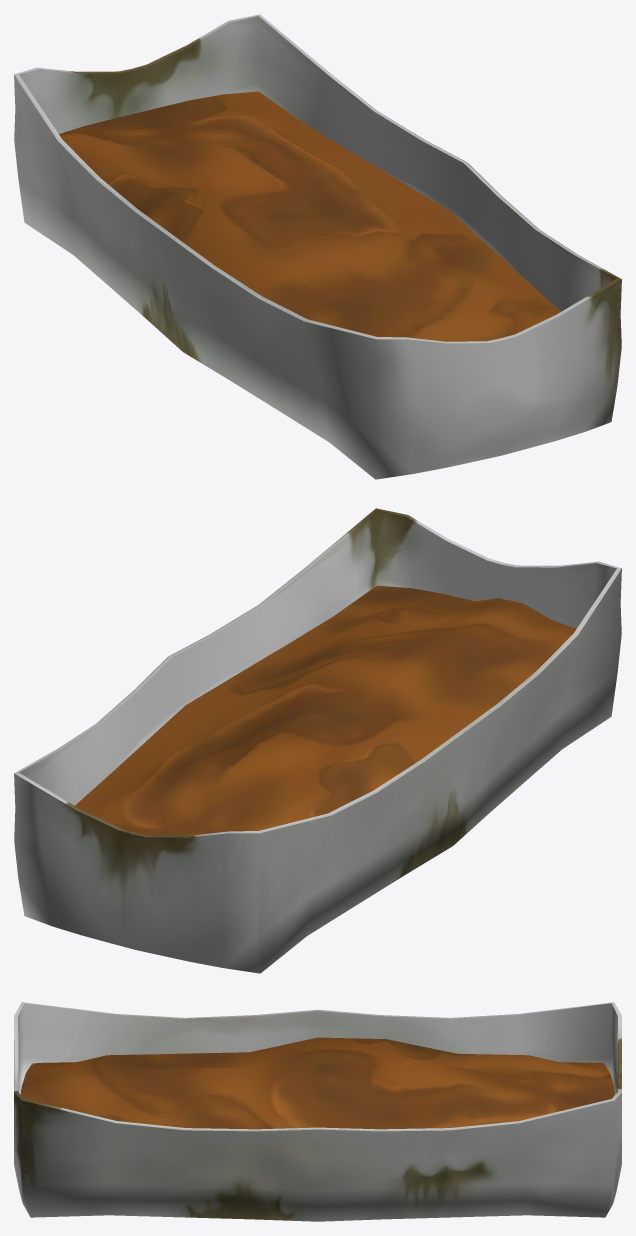
Rendered from Paper_Plate_Brown_Goob_Mold_Full.fbx.
3 views of the same model, one above another, from view 1: azimuth 30°, elevation 25°; view 2: azimuth 150°, elevation 25°; view 3: azimuth 270°, elevation 25° (orthographic). The views are drawn at different scales.
Parts seen in each view (by area): view 1: Cube.001; view 2: Cube.001; view 3: Cube.001.
Part boxes in pixels (x1,y1,x2,y2): Cube.001: (14,14,621,479); Cube.001: (14,508,621,973); Cube.001: (14,1002,621,1221).
Size of the model in its own units: 10.5 by 4.92 by 22.5.
1 material, 1 textured.
